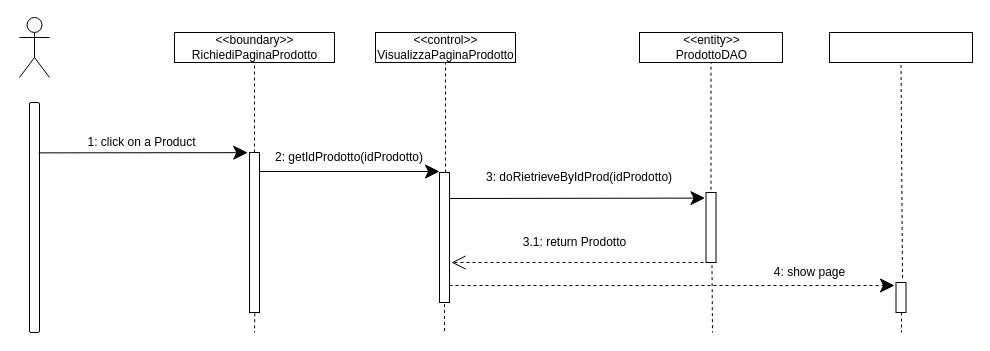
The diagram is 990 pixels wide and 351 high, and some of its shapes have lost their labels. Each missing label, with the box of its shape:
<<boundary>> PaginaProdotto: (828, 32, 972, 62)
Utente: (18, 16, 50, 78)
